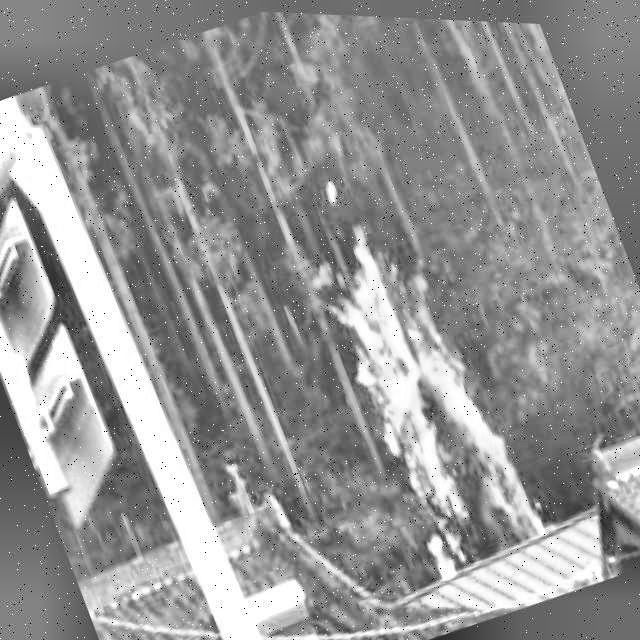Smoke: (291, 192, 547, 584)
